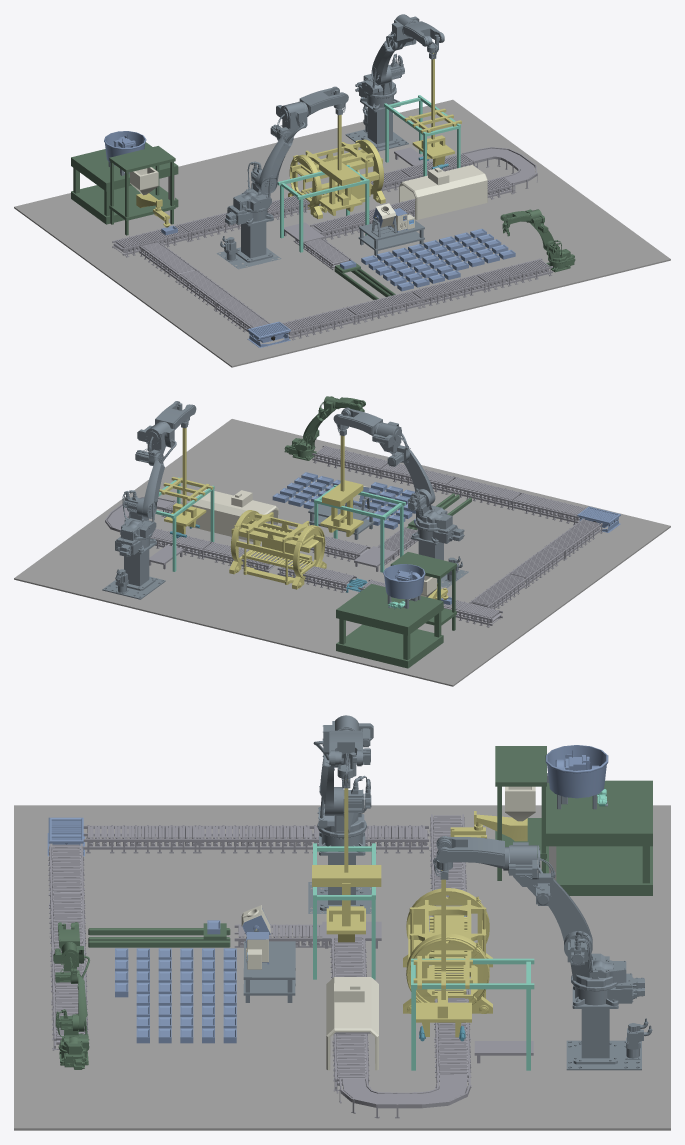
3 renders of one model, top to bottom at view 1: azimuth 30°, elevation 25°; view 2: azimuth 150°, elevation 25°; view 3: azimuth 270°, elevation 25°, orthographic. The views are drawn at different scales.
Parts seen in each view (by area): view 1: polySurface171; view 2: polySurface171; view 3: polySurface171.
Boxes of the visible parts, bbox=[...] form: polySurface171: bbox=[14, 14, 670, 367]; polySurface171: bbox=[14, 396, 670, 686]; polySurface171: bbox=[14, 715, 670, 1130].
Bounding box in the file's own units: 20.41 × 6.6 × 17.54.
